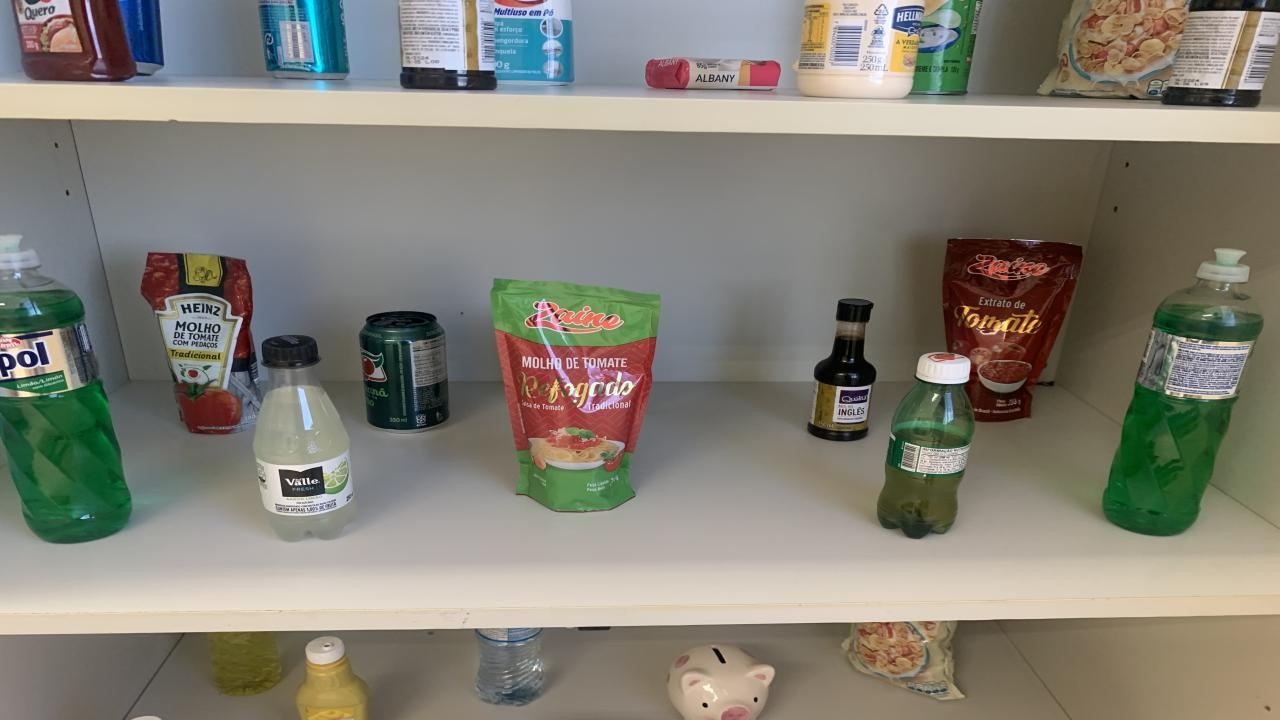Cleaner-Cleanup_Items: (495, 0, 575, 84)
Detergent-Cleanup_Items: (1102, 249, 1262, 536), (0, 234, 132, 544), (208, 632, 282, 696)
English_Sauce-Pantry_Items: (1162, 0, 1280, 107), (808, 300, 875, 441), (398, 0, 498, 90)
Flakes-Snacks: (1038, 0, 1188, 99), (842, 621, 965, 699)
Guarana-Drinks: (878, 352, 975, 538)
Guarana_Can-Drinks: (360, 311, 450, 433)
Ketchup-Pantry_Items: (12, 0, 138, 81)
Mayonnaise-Pantry_Items: (795, 0, 925, 99)
Mustard-Pantry_Items: (295, 636, 370, 720)
Pig_Safe-Miscellaneous: (668, 645, 775, 720)
Pringles-Snacks: (912, 0, 982, 94)
Soap-Cleanup_Items: (645, 56, 780, 90)
Soda-Drinks: (252, 336, 355, 542)
Tea-Drinks: (258, 0, 350, 79)
Tomato_Sauce-Pantry_Items: (490, 279, 660, 510), (942, 238, 1082, 422), (142, 253, 260, 433)
Tonic-Drinks: (118, 0, 165, 75)
Water_Bottle-Drinks: (475, 628, 545, 707)
